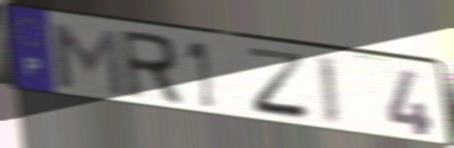1: (183, 39, 217, 110)
4: (384, 65, 436, 140)
I: (315, 53, 343, 128)
M: (46, 19, 129, 100)
R: (116, 27, 186, 109)
Z: (243, 45, 315, 125)
